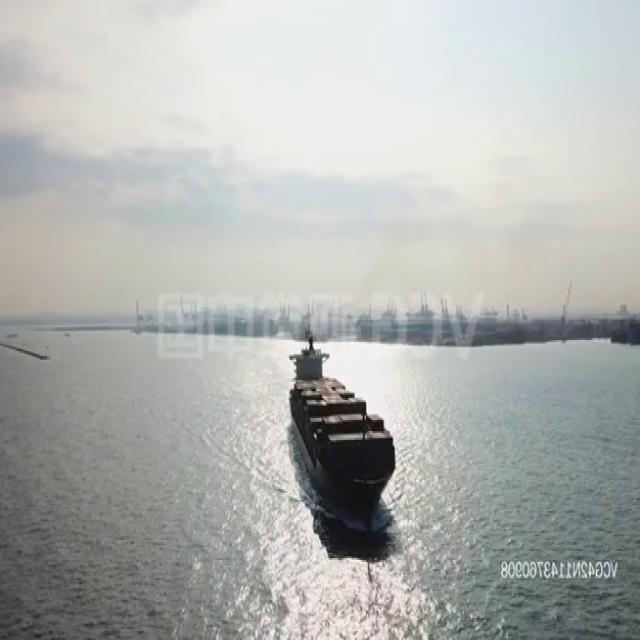cargoship: (288, 331, 398, 522)
